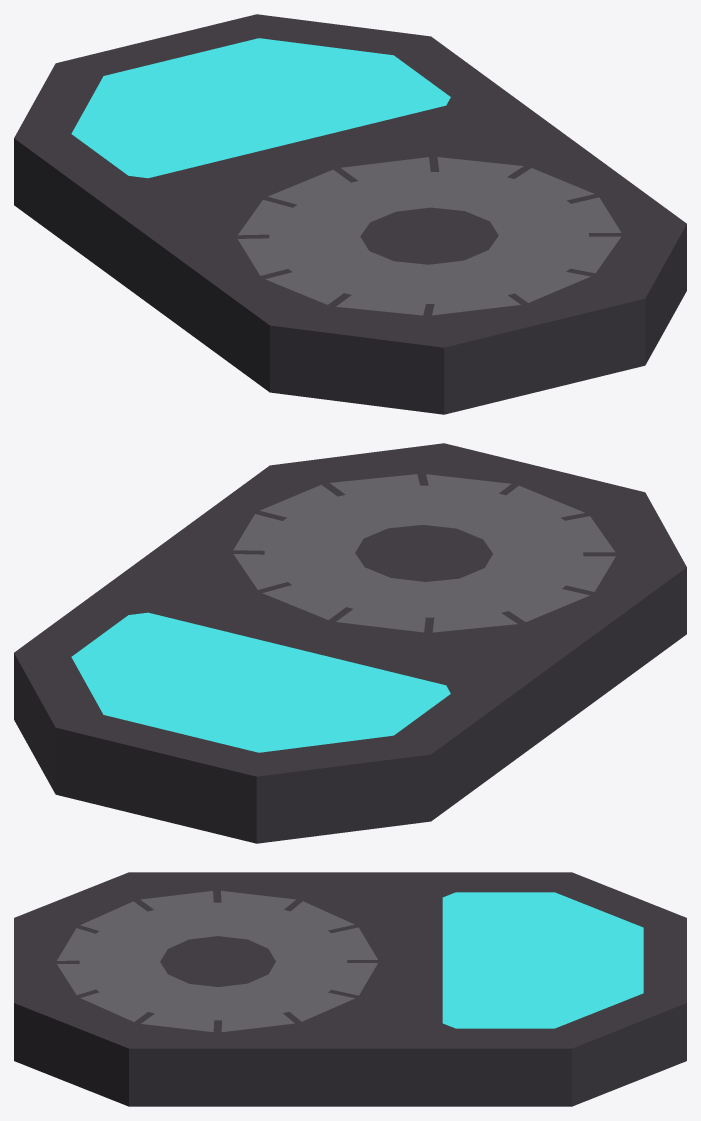
Rendered from SM_Props_Device_03.fbx.
3 renders of one model, top to bottom at view 1: azimuth 30°, elevation 25°; view 2: azimuth 150°, elevation 25°; view 3: azimuth 270°, elevation 25°, orthographic. The views are drawn at different scales.
Parts seen in each view (by area): view 1: SM_Props_Device_03; view 2: SM_Props_Device_03; view 3: SM_Props_Device_03.
Boxes of the visible parts, bbox=[...] form: SM_Props_Device_03: bbox=[14, 14, 686, 414]; SM_Props_Device_03: bbox=[14, 443, 686, 843]; SM_Props_Device_03: bbox=[14, 872, 686, 1106].
Bounding box in the file's own units: 0.1297 × 0.0199 × 0.2092.
